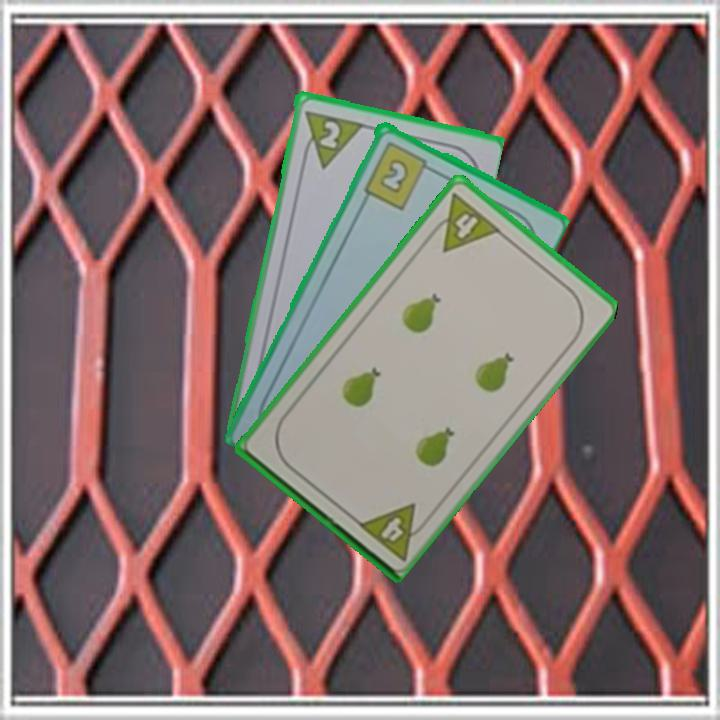2b: (360, 137, 437, 212)
2p: (297, 106, 364, 171)
4p: (423, 189, 503, 255), (353, 499, 433, 563)
